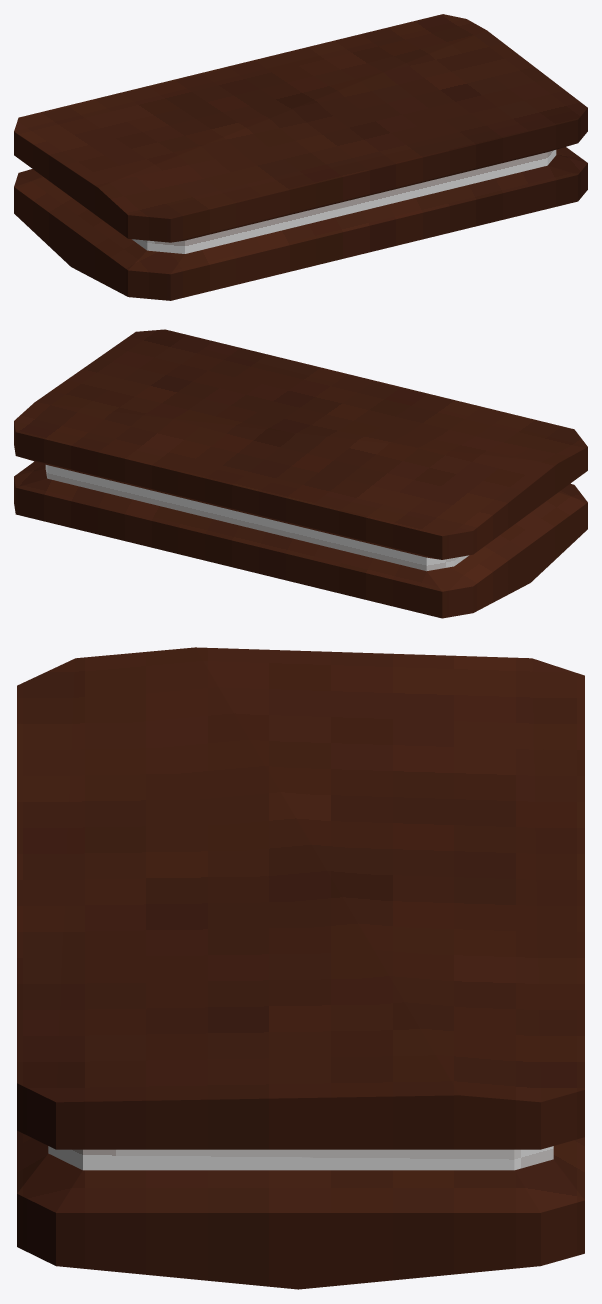
The model's file is IcecreamSandwich_Melted.fbx.
3 renders of one model, top to bottom at view 1: azimuth 30°, elevation 25°; view 2: azimuth 150°, elevation 25°; view 3: azimuth 270°, elevation 25°, orthographic. The views are drawn at different scales.
Visible parts, largest first — view 1: IcecreamSandwich; view 2: IcecreamSandwich; view 3: IcecreamSandwich.
Boxes of the visible parts, left/top/right/bottom form: IcecreamSandwich: left=14, top=14, right=587, bottom=300; IcecreamSandwich: left=14, top=329, right=587, bottom=618; IcecreamSandwich: left=17, top=647, right=584, bottom=1289.
Size of the model in its own units: 24.7 by 5.14 by 13.35.
